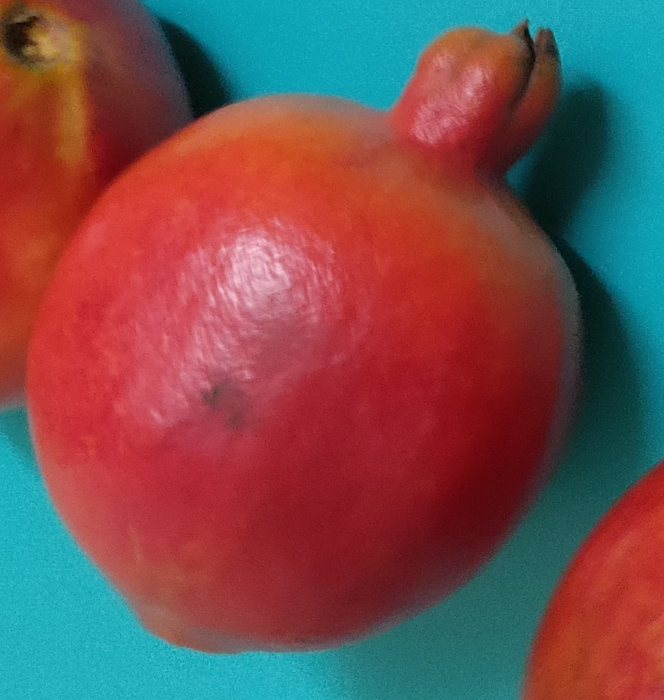pomegranate_B: (24, 20, 583, 657)
